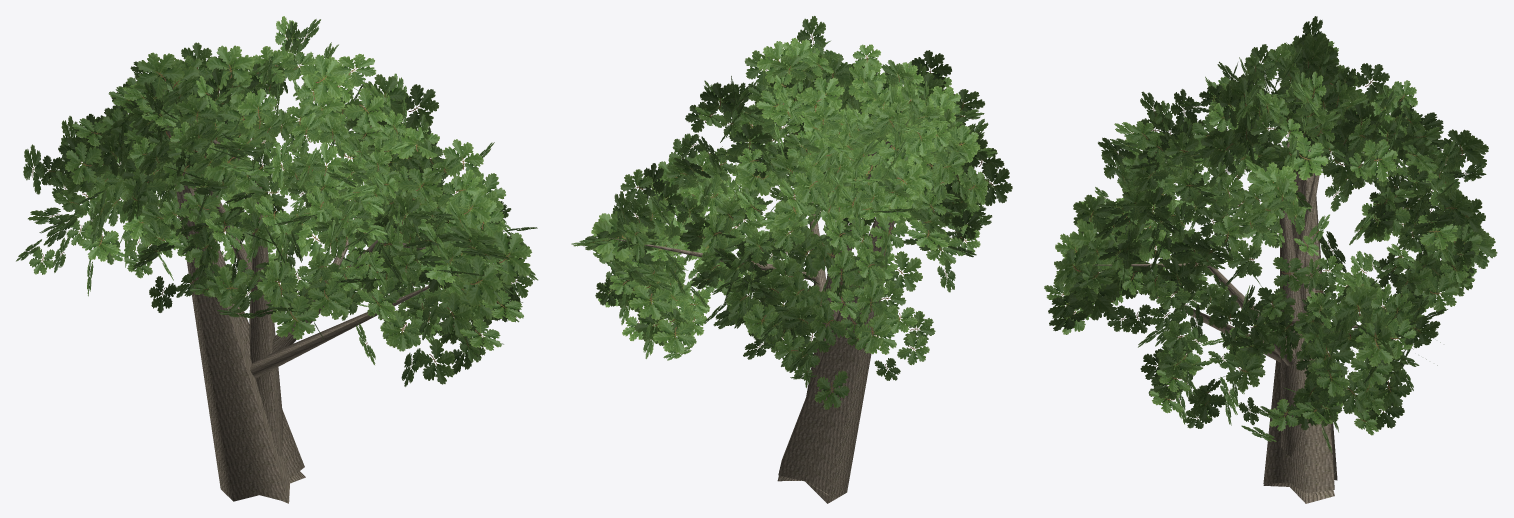
Rendered from fm_oak.glb.
3 renders of one model, left to right at view 1: azimuth 30°, elevation 25°; view 2: azimuth 150°, elevation 25°; view 3: azimuth 270°, elevation 25°, orthographic. The views are drawn at different scales.
Parts seen in each view (by area): view 1: L2_leaves, L3_leaves, L3_bark, L2_bark; view 2: L2_leaves, L3_leaves, L3_bark, L2_bark; view 3: L2_leaves, L3_leaves, L3_bark, L2_bark.
Boxes of the visible parts, left/top/right/bottom form: L2_leaves: left=28, top=16, right=537, bottom=351; L3_leaves: left=16, top=55, right=519, bottom=386; L3_bark: left=163, top=105, right=460, bottom=502; L2_bark: left=163, top=90, right=425, bottom=503; L2_leaves: left=571, top=16, right=1012, bottom=378; L3_leaves: left=613, top=99, right=996, bottom=409; L3_bark: left=778, top=130, right=910, bottom=503; L2_bark: left=609, top=117, right=910, bottom=495; L2_leaves: left=1048, top=16, right=1491, bottom=432; L3_leaves: left=1044, top=35, right=1497, bottom=453; L3_bark: left=1104, top=108, right=1337, bottom=493; L2_bark: left=1092, top=99, right=1398, bottom=503.
Size of the model in its own units: 12.35 by 13.43 by 12.82.
4 materials, 4 textured.
